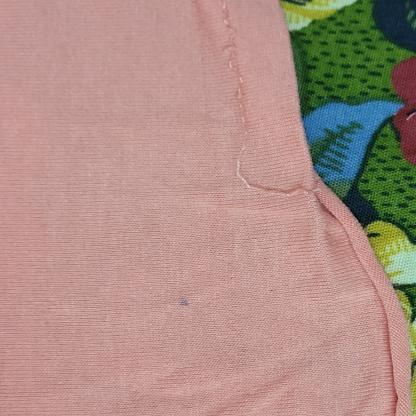spot: (175, 296, 191, 310)
